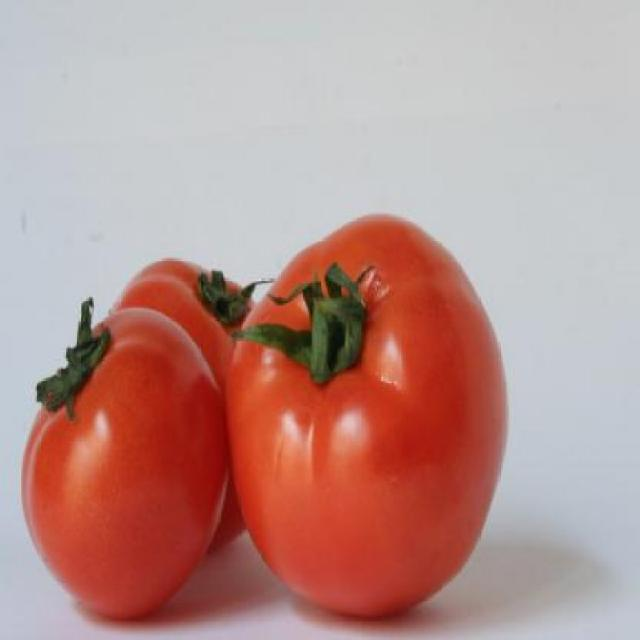Tomato: (227, 208, 510, 618), (21, 294, 230, 620), (114, 255, 272, 543)
